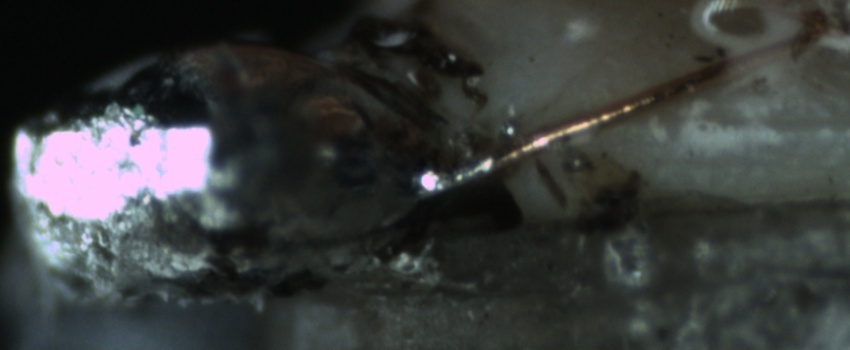TS: (424, 146, 506, 196)
